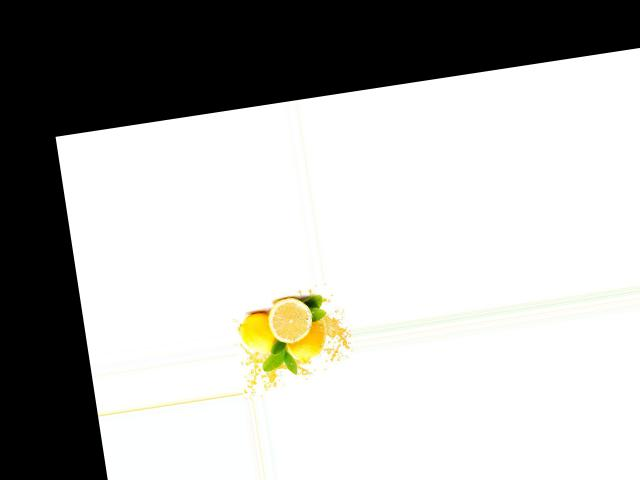lemon: (238, 307, 287, 360)
